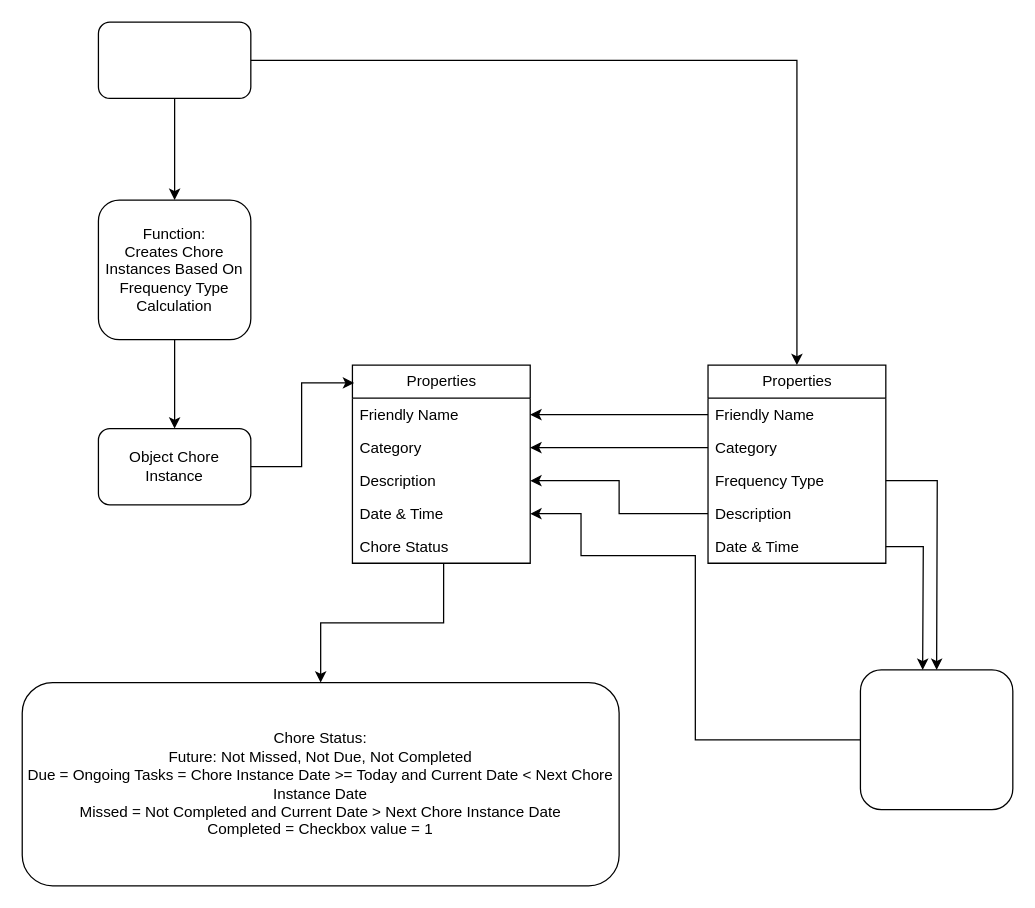
This 1035x908 diagram has some shape labels left out. The shapes that lost their labels are listed below. From the top down, each one's box as (x1, y1, x2, y2) in pixels, then its label:
(97, 21, 251, 98): Class Chore Sequence
(859, 669, 1013, 810): Date & Time Creates A Sequence Based On Frequency Type
